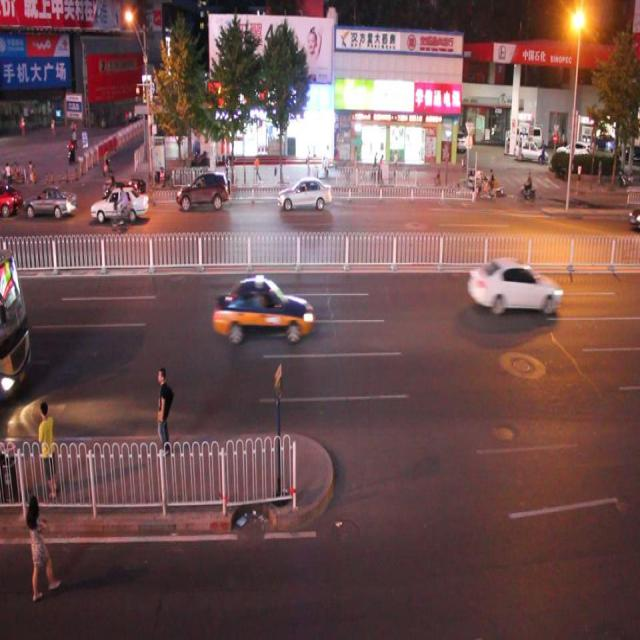car: (212, 272, 312, 345), (467, 254, 563, 317), (175, 170, 231, 216), (90, 185, 149, 224), (278, 175, 332, 217), (23, 186, 78, 226), (101, 180, 145, 223)
